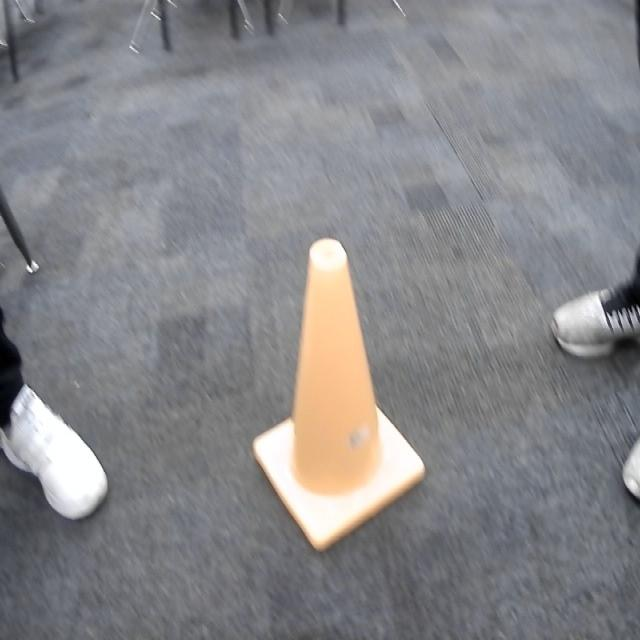cone: (249, 236, 428, 554)
